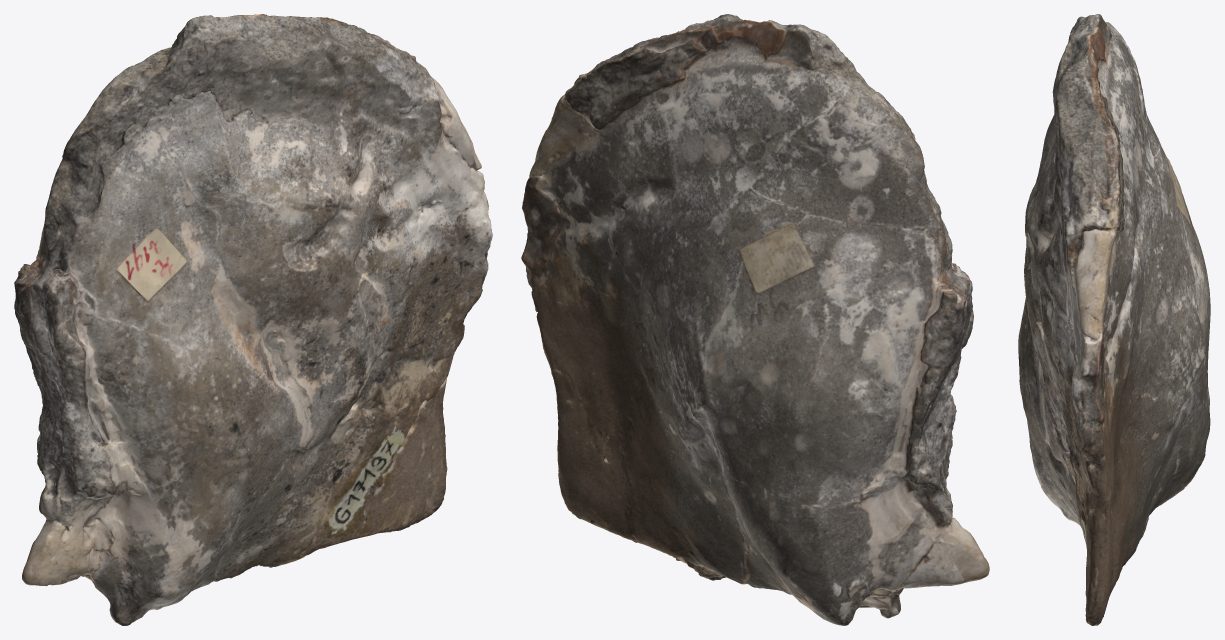
Rendered from EWS0016362.glb.
The picture shows the model from 3 angles, left to right: view 1: azimuth 30°, elevation 25°; view 2: azimuth 150°, elevation 25°; view 3: azimuth 270°, elevation 25°; orthographic projection. The views are drawn at different scales.
Visible parts, largest first — view 1: input (for real this time); view 2: input (for real this time); view 3: input (for real this time).
Part boxes in pixels (bbox=[...]): input (for real this time): bbox=[14, 14, 492, 625]; input (for real this time): bbox=[521, 14, 989, 625]; input (for real this time): bbox=[1018, 14, 1210, 625].
Size of the model in its own units: 0.1091 by 0.1297 by 0.0422.
1 material, 1 textured.
